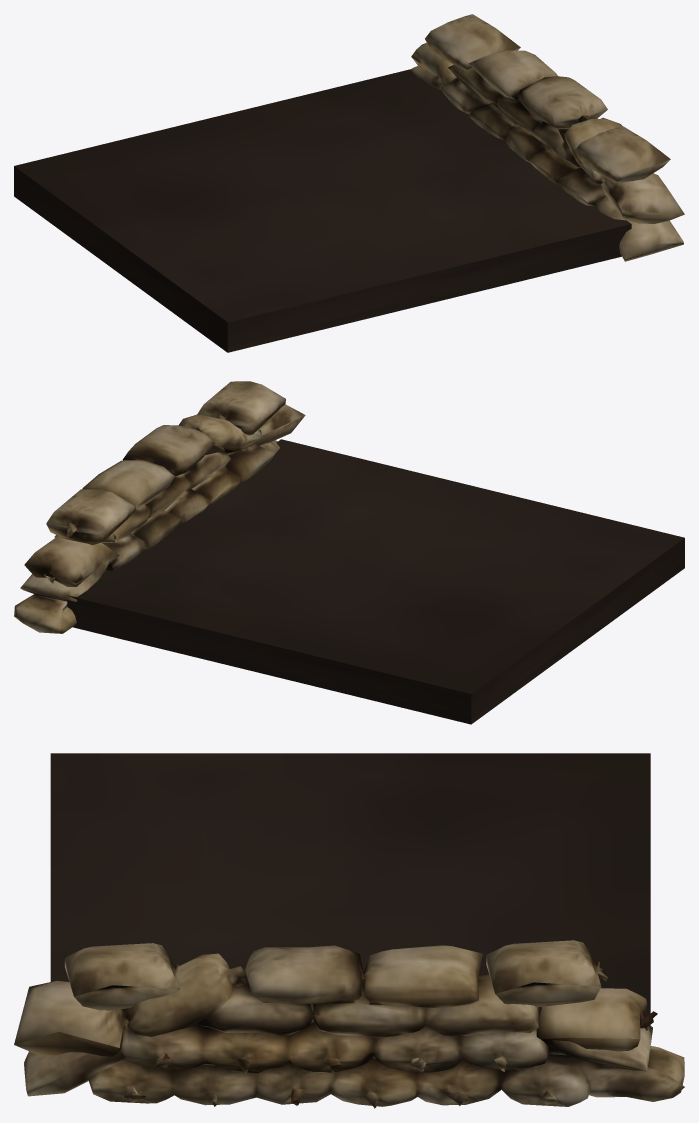
The picture shows the model from 3 angles, top to bottom: view 1: azimuth 30°, elevation 25°; view 2: azimuth 150°, elevation 25°; view 3: azimuth 270°, elevation 25°; orthographic projection. The views are drawn at different scales.
Parts seen in each view (by area): view 1: Cube_Cube.000, sandbags_01.008; view 2: Cube_Cube.000, sandbags_01.008; view 3: Cube_Cube.000, sandbags_01.008.
Part boxes in pixels (x1,y1,x2,y2): Cube_Cube.000: (14, 69, 631, 352); sandbags_01.008: (410, 14, 684, 261); Cube_Cube.000: (67, 439, 684, 724); sandbags_01.008: (14, 381, 305, 633); Cube_Cube.000: (50, 753, 650, 1029); sandbags_01.008: (14, 940, 684, 1108).
Bounding box in the file's own units: 5.59 × 1.15 × 4.92.
